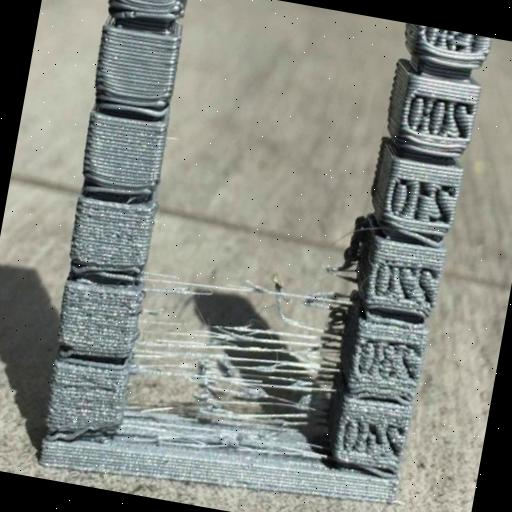stringing: (110, 250, 364, 476), (320, 206, 380, 285)
